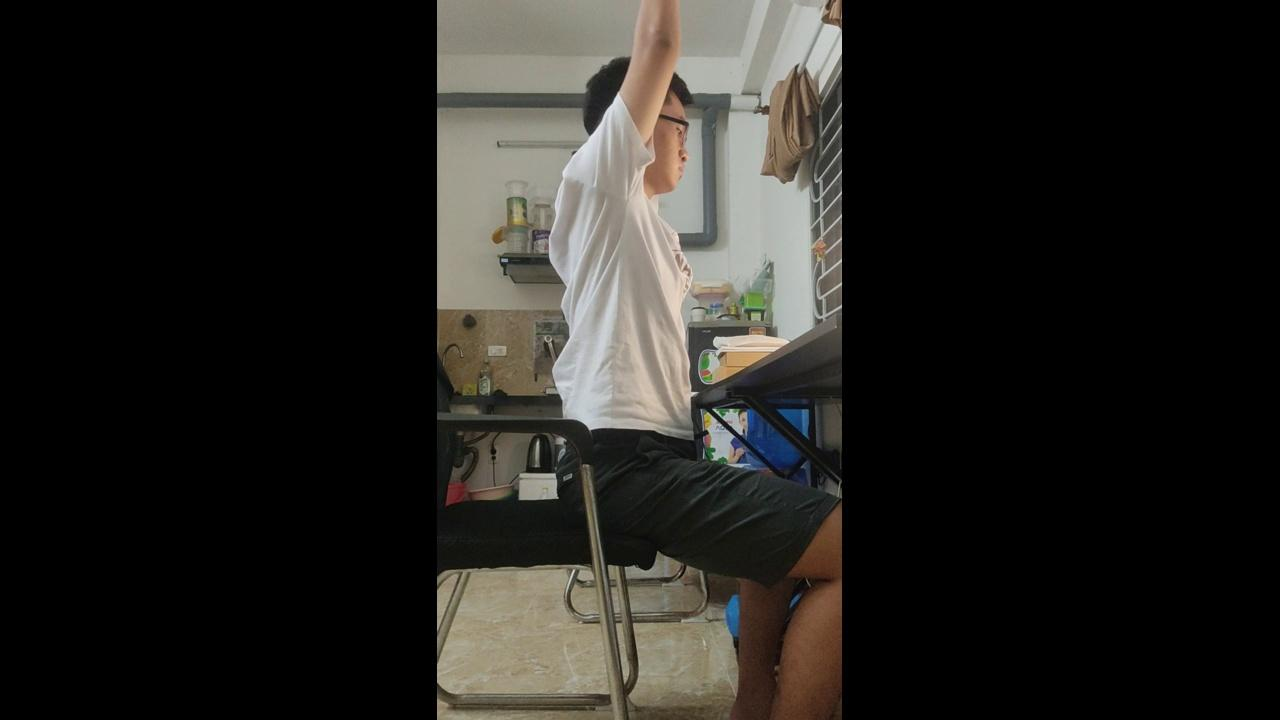GoodPosture: (549, 0, 841, 719)
